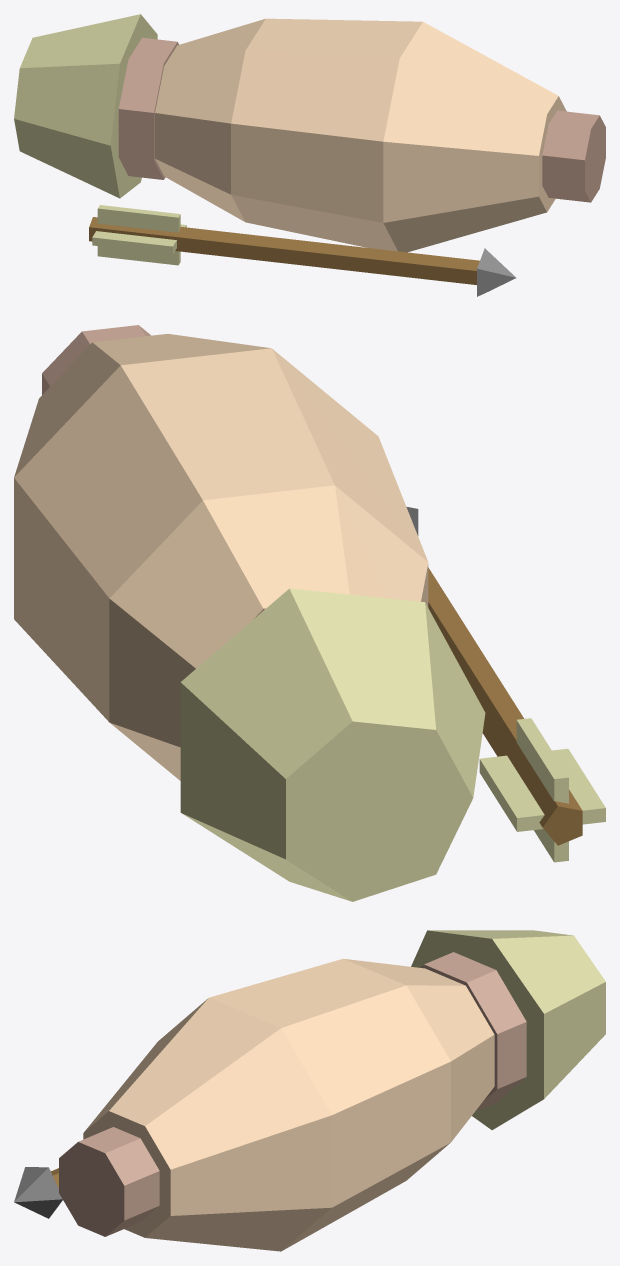
File: ce_ammo2_great_stone_c.obj
The picture shows the model from 3 angles, top to bottom: view 1: azimuth 30°, elevation 25°; view 2: azimuth 150°, elevation 25°; view 3: azimuth 270°, elevation 25°; orthographic projection. The views are drawn at different scales.
Parts seen in each view (by area): view 1: ce_ammo2_great_stone_c_2, ce_ammo2_great_stone_c_1, ce_ammo2_great_stone_c_5, ce_ammo2_great_stone_c_3, ce_ammo2_great_stone_c_6, ce_ammo2_great_stone_c_4, ce_ammo2_great_stone_c_0, ce_ammo2_great_stone_c_9, ce_ammo2_great_stone_c_8, ce_ammo2_great_stone_c_7; view 2: ce_ammo2_great_stone_c_5, ce_ammo2_great_stone_c_2, ce_ammo2_great_stone_c_3, ce_ammo2_great_stone_c_6, ce_ammo2_great_stone_c_1, ce_ammo2_great_stone_c_8, ce_ammo2_great_stone_c_9, ce_ammo2_great_stone_c_0; view 3: ce_ammo2_great_stone_c_1, ce_ammo2_great_stone_c_2, ce_ammo2_great_stone_c_5, ce_ammo2_great_stone_c_0, ce_ammo2_great_stone_c_3, ce_ammo2_great_stone_c_4, ce_ammo2_great_stone_c_7.
Boxes of the visible parts, left/top/right/bottom form: ce_ammo2_great_stone_c_2: left=231, top=18, right=422, bottom=251; ce_ammo2_great_stone_c_1: left=383, top=22, right=566, bottom=252; ce_ammo2_great_stone_c_5: left=14, top=14, right=157, bottom=198; ce_ammo2_great_stone_c_3: left=155, top=19, right=265, bottom=221; ce_ammo2_great_stone_c_6: left=89, top=217, right=479, bottom=284; ce_ammo2_great_stone_c_4: left=118, top=37, right=178, bottom=179; ce_ammo2_great_stone_c_0: left=542, top=110, right=605, bottom=202; ce_ammo2_great_stone_c_9: left=97, top=205, right=180, bottom=265; ce_ammo2_great_stone_c_8: left=92, top=224, right=186, bottom=254; ce_ammo2_great_stone_c_7: left=477, top=248, right=516, bottom=296; ce_ammo2_great_stone_c_5: left=180, top=588, right=485, bottom=901; ce_ammo2_great_stone_c_2: left=14, top=348, right=427, bottom=721; ce_ammo2_great_stone_c_3: left=109, top=485, right=428, bottom=780; ce_ammo2_great_stone_c_6: left=428, top=567, right=582, bottom=845; ce_ammo2_great_stone_c_1: left=14, top=334, right=270, bottom=476; ce_ammo2_great_stone_c_8: left=479, top=748, right=605, bottom=831; ce_ammo2_great_stone_c_9: left=516, top=718, right=568, bottom=862; ce_ammo2_great_stone_c_0: left=42, top=325, right=150, bottom=394; ce_ammo2_great_stone_c_1: left=83, top=998, right=332, bottom=1251; ce_ammo2_great_stone_c_2: left=209, top=959, right=450, bottom=1250; ce_ammo2_great_stone_c_5: left=411, top=930, right=605, bottom=1129; ce_ammo2_great_stone_c_0: left=59, top=1127, right=159, bottom=1236; ce_ammo2_great_stone_c_3: left=343, top=958, right=494, bottom=1141; ce_ammo2_great_stone_c_4: left=420, top=952, right=526, bottom=1111; ce_ammo2_great_stone_c_7: left=14, top=1167, right=62, bottom=1218.
Bounding box in the file's own units: 0.6615 × 0.2956 × 0.7098.
